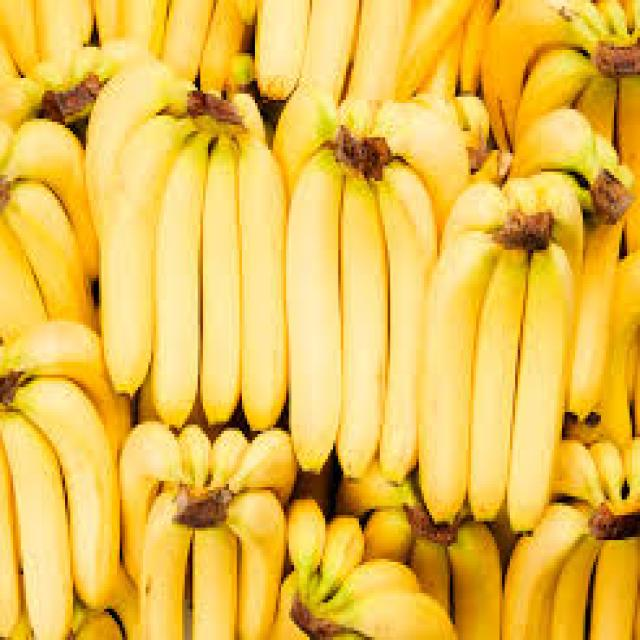Banana: (271, 80, 461, 484), (84, 62, 288, 430), (417, 164, 586, 539), (0, 316, 136, 636), (110, 424, 294, 640), (502, 436, 640, 640), (481, 0, 640, 168), (284, 496, 455, 640), (0, 109, 99, 337)
